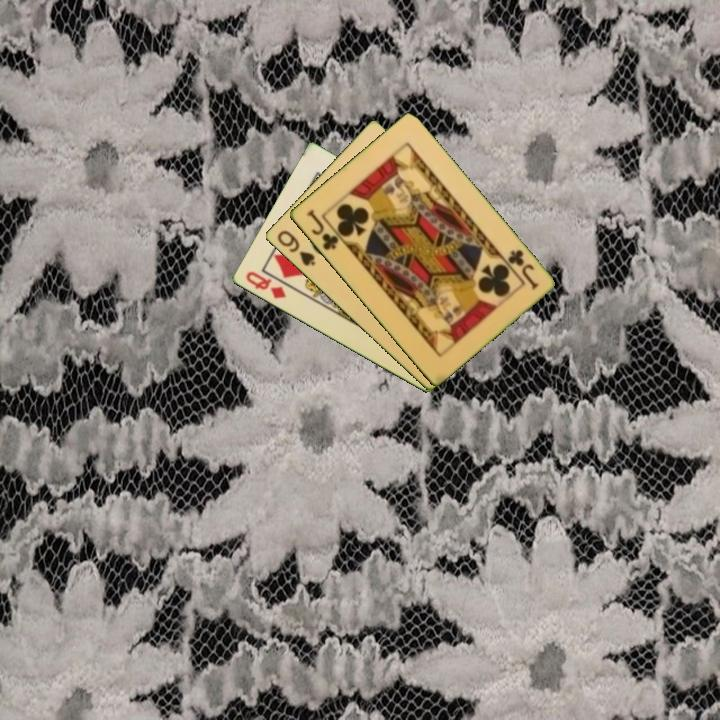9s: (273, 226, 318, 269)
Jc: (303, 206, 341, 253), (504, 246, 541, 293)
Qd: (242, 268, 289, 302)
